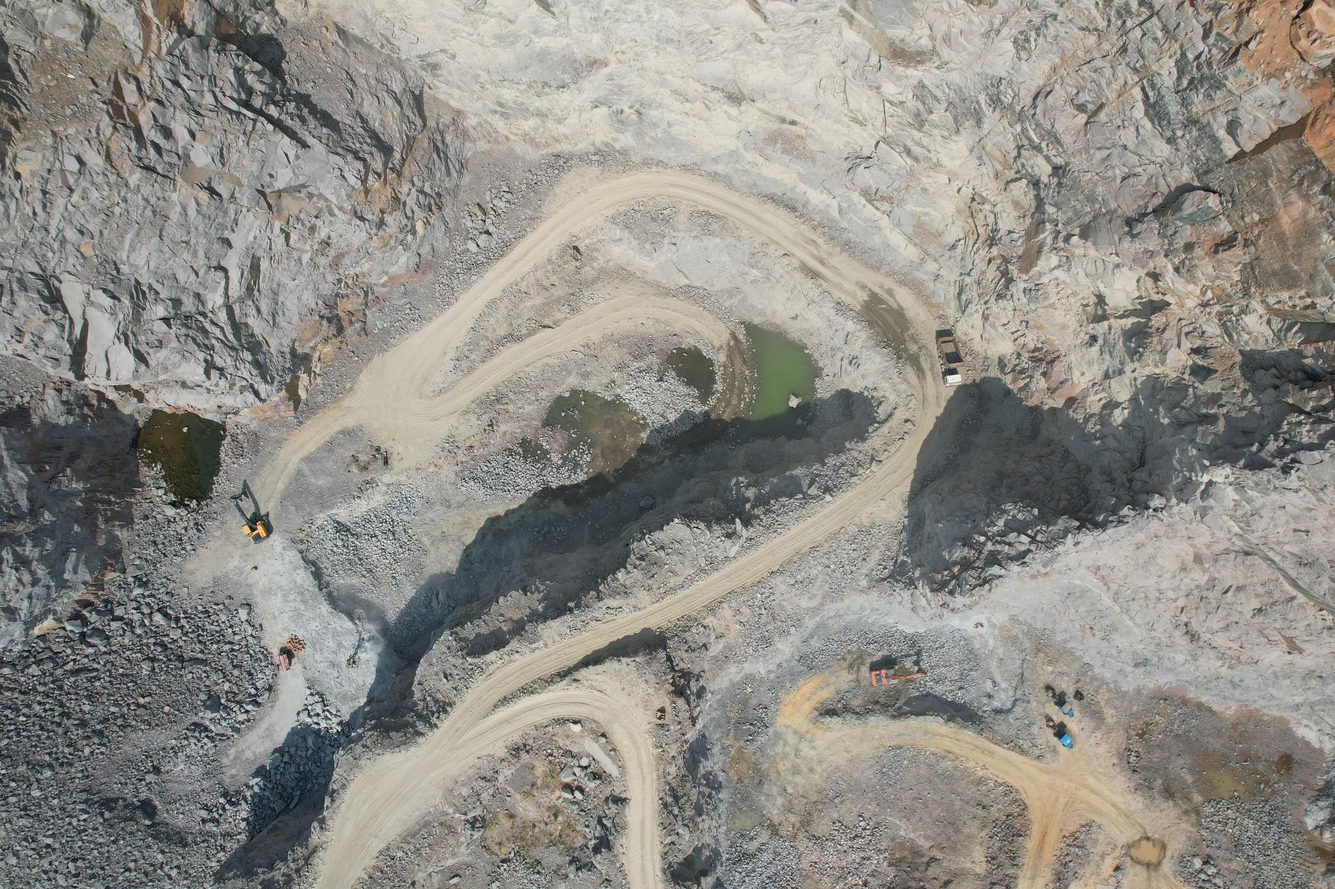benches: (317, 362, 948, 889), (262, 171, 929, 494), (779, 674, 1182, 889)
excavator: (215, 488, 290, 553), (866, 665, 934, 702)
truck: (927, 310, 976, 405)
